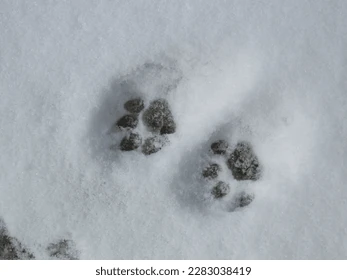cat: (201, 131, 263, 218), (104, 96, 179, 160)
